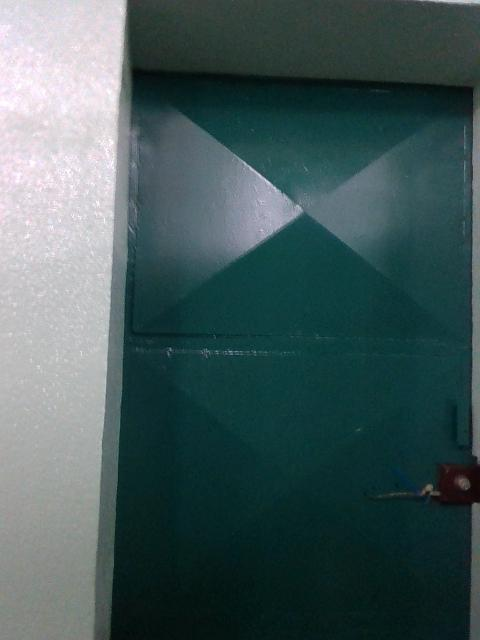door: (118, 69, 477, 635)
